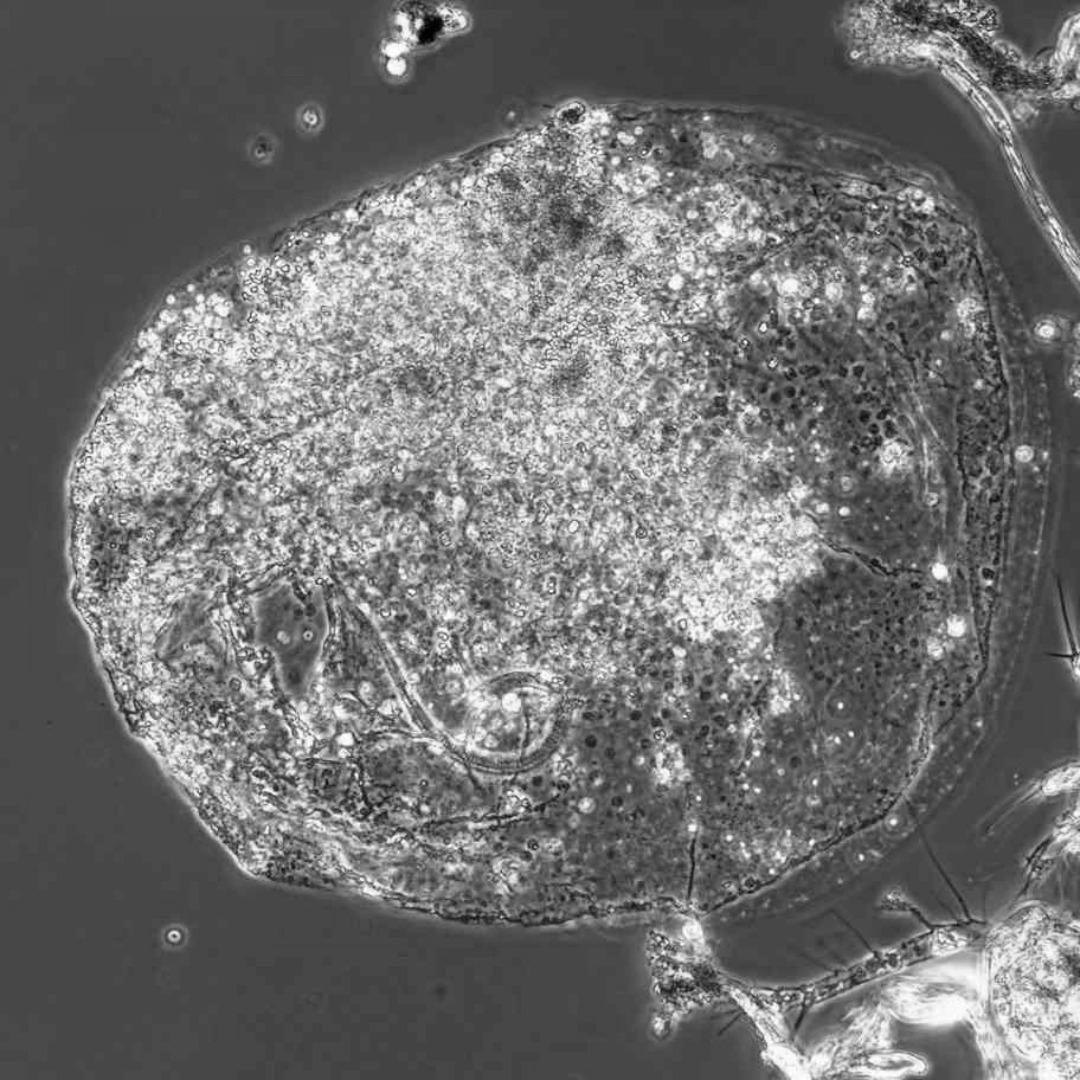noctilluca_scintillans: (62, 91, 1058, 933)
